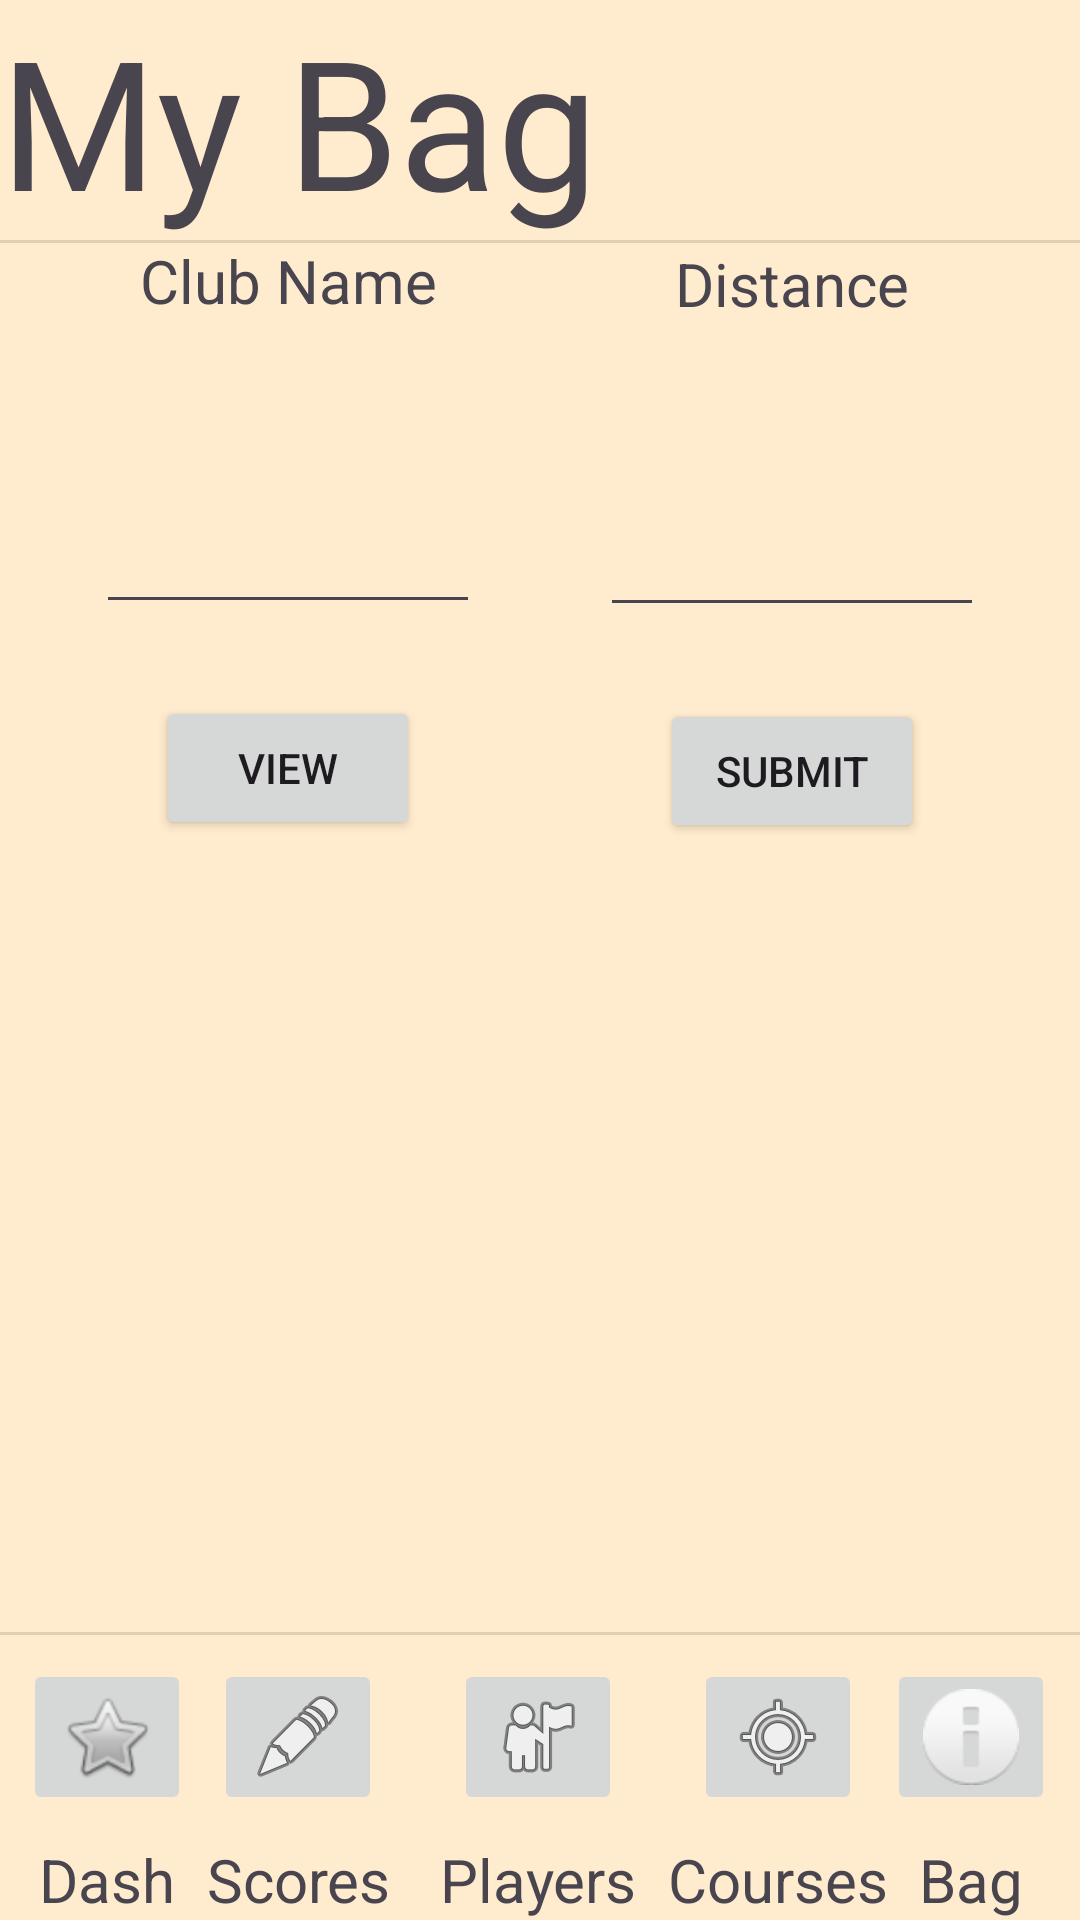

Named icons in this screenshot (1080*1920) and their centers, [x,y]:
edit: [298,1737]
info: [971,1737]
mylocation: [778,1737]
myplaces: [538,1737]
star: [107,1737]
